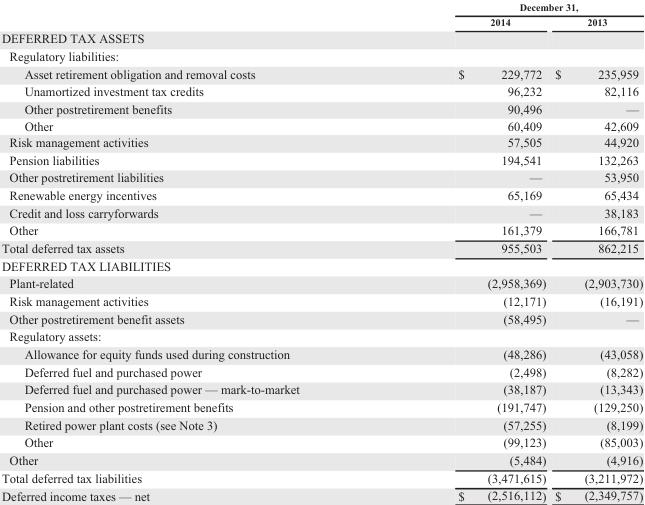table: (1, 1, 642, 502)
table column: (1, 1, 378, 502), (378, 1, 549, 502), (549, 1, 642, 502)
table column header: (1, 1, 642, 29)
table projected row header: (1, 29, 642, 47), (1, 256, 642, 274), (1, 47, 642, 64), (1, 327, 642, 344)
table row: (1, 29, 642, 47), (1, 64, 642, 82), (1, 82, 642, 100), (1, 150, 642, 168), (1, 185, 642, 203), (1, 203, 642, 221), (1, 238, 642, 256), (1, 256, 642, 274), (1, 291, 642, 309), (1, 309, 642, 327), (1, 344, 642, 362), (1, 362, 642, 380), (1, 380, 642, 398), (1, 415, 642, 433), (1, 433, 642, 451), (1, 468, 642, 486), (1, 47, 642, 64), (1, 100, 642, 117), (1, 133, 642, 150), (1, 168, 642, 185), (1, 221, 642, 238), (1, 274, 642, 291), (1, 327, 642, 344), (1, 398, 642, 415), (1, 451, 642, 468), (1, 117, 642, 133), (1, 486, 642, 502), (1, 14, 642, 29), (1, 1, 642, 14)
table spanning cell: (378, 1, 642, 14)
